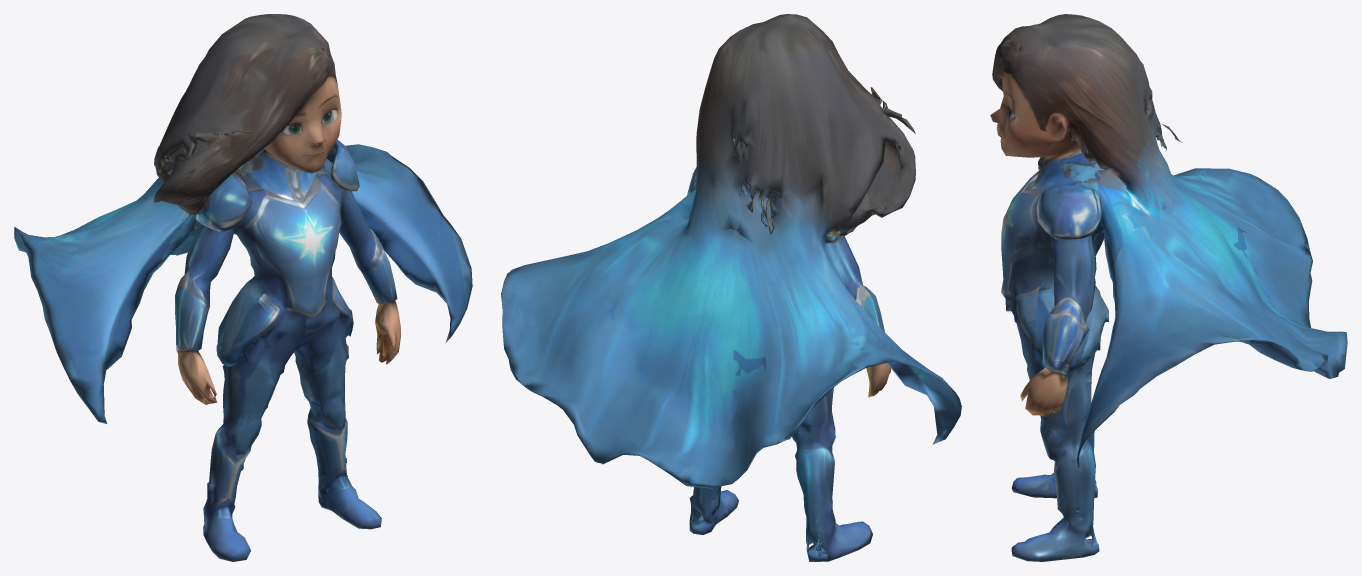
The model's file is herolumegirl.glb.
The picture shows the model from 3 angles, left to right: view 1: azimuth 30°, elevation 25°; view 2: azimuth 150°, elevation 25°; view 3: azimuth 270°, elevation 25°; orthographic projection. The views are drawn at different scales.
Bounding box in the file's own units: 1.67 × 1.97 × 1.28.
1 material, 1 textured.
